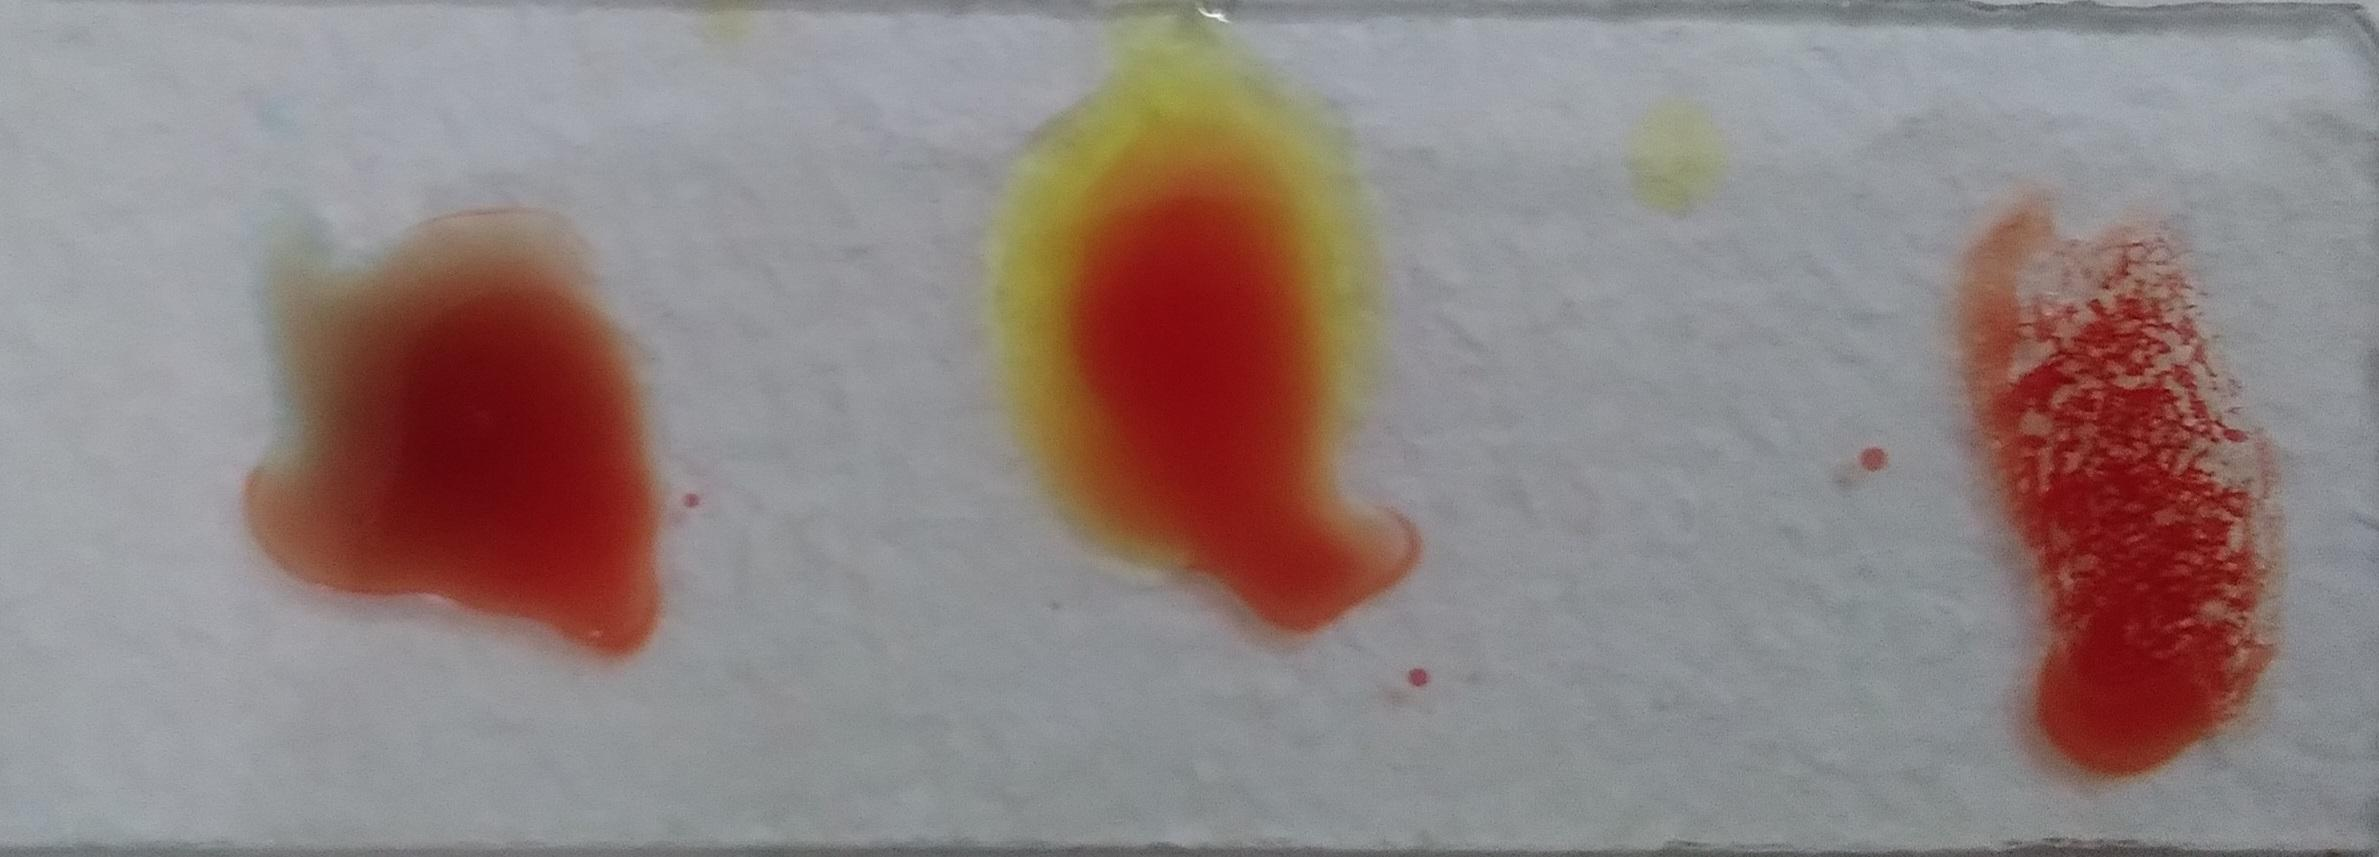D: (93, 83, 428, 660)
